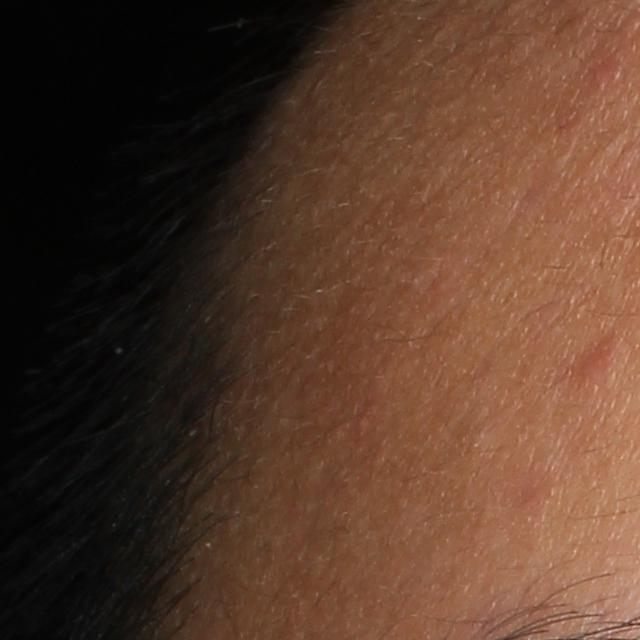papule: (575, 331, 625, 385)
